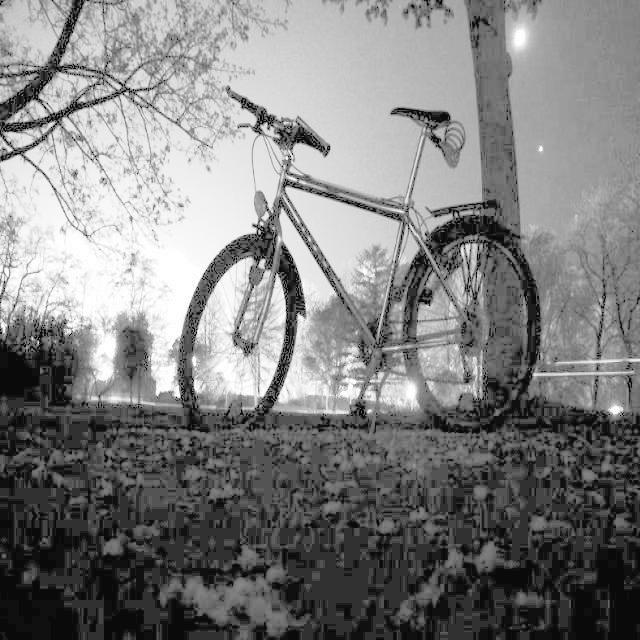Bicycle: (179, 72, 550, 537)
